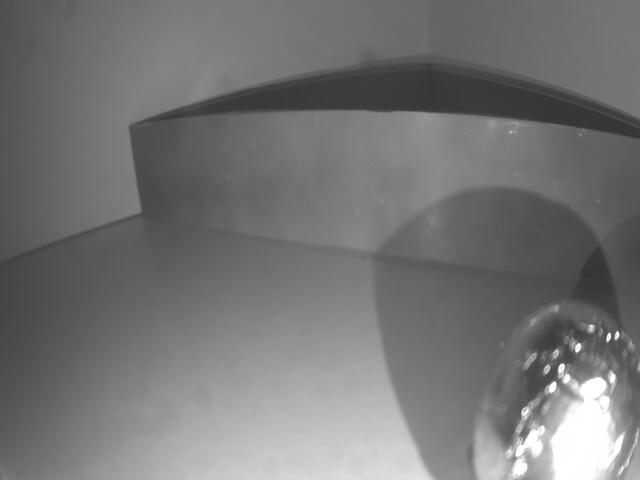Green: (124, 118, 640, 293)
Live: (469, 284, 640, 480)
